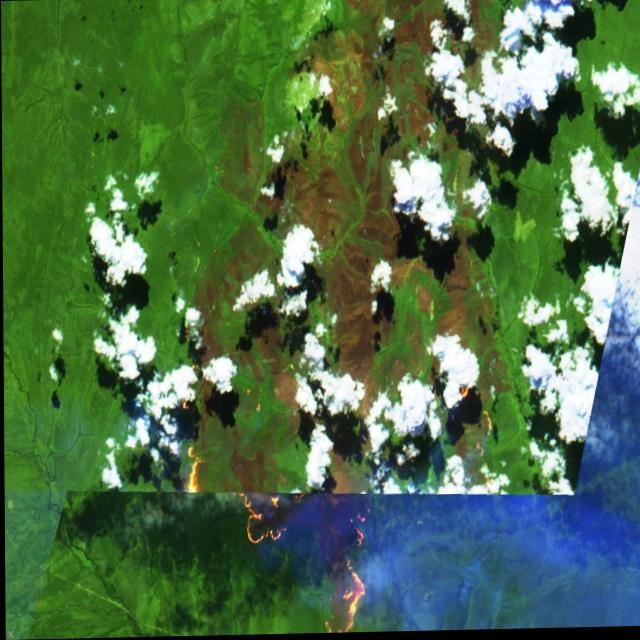fire: (319, 561, 367, 634), (236, 491, 286, 556), (174, 356, 198, 427), (237, 374, 265, 425), (180, 441, 203, 503), (347, 508, 366, 551)
